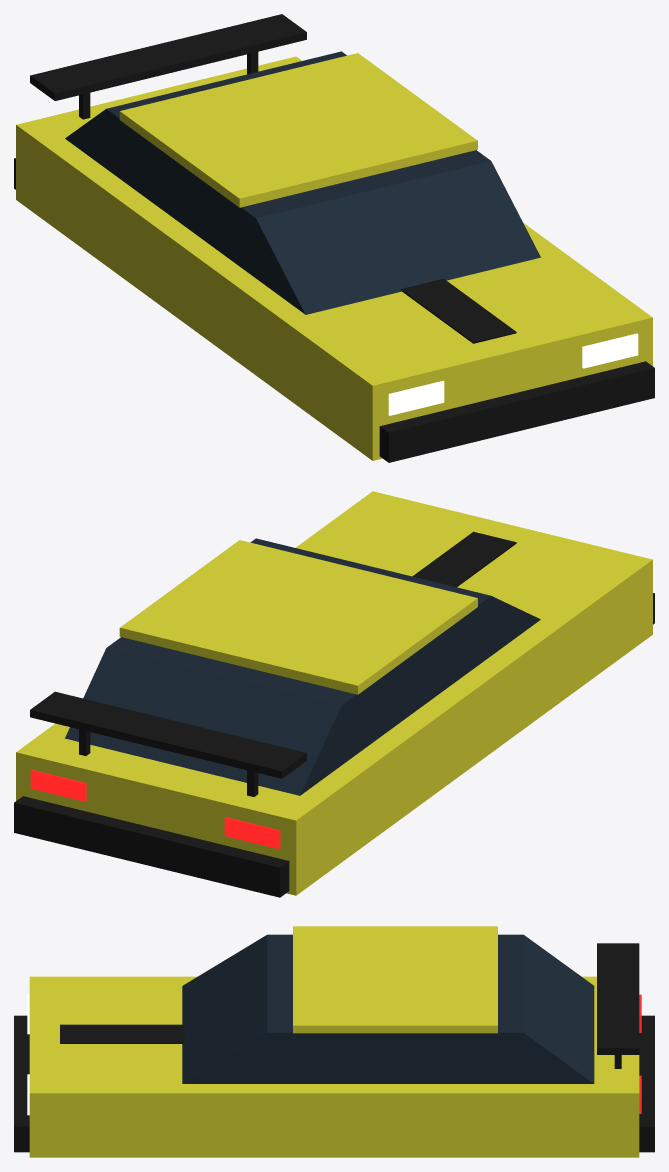
The model's file is sports.glb.
3 views of the same model, one above another, from view 1: azimuth 30°, elevation 25°; view 2: azimuth 150°, elevation 25°; view 3: azimuth 270°, elevation 25° (orthographic). The views are drawn at different scales.
Visible parts, largest first — view 1: body; view 2: body; view 3: body.
Boxes of the visible parts, x1,y1,x2,y2 form: body: [14, 14, 654, 462]; body: [14, 491, 654, 897]; body: [14, 926, 654, 1157].
Size of the model in its own units: 1.95 by 0.96 by 4.52.
